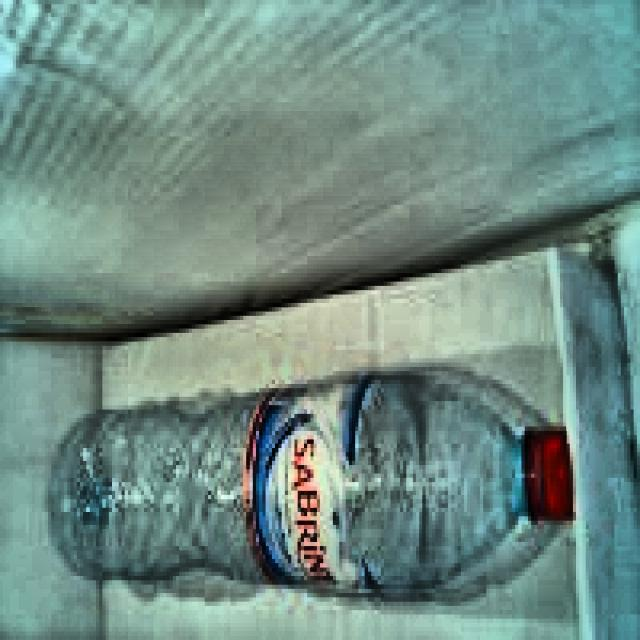plastic bottle: (54, 375, 571, 591)
